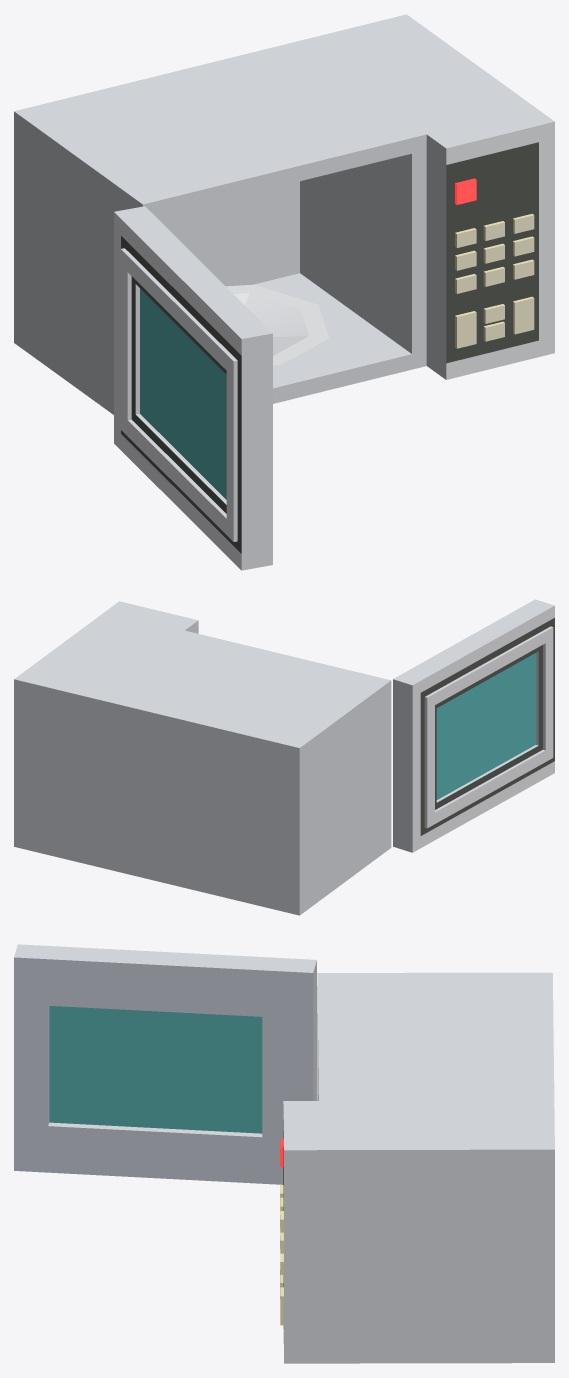
Rendered from Microwave_Open.glb.
3 renders of one model, top to bottom at view 1: azimuth 30°, elevation 25°; view 2: azimuth 150°, elevation 25°; view 3: azimuth 270°, elevation 25°, orthographic. The views are drawn at different scales.
Parts seen in each view (by area): view 1: Microwave_Open; view 2: Microwave_Open; view 3: Microwave_Open.
Part boxes in pixels (x1,y1,x2,y2): Microwave_Open: [14, 14, 554, 570]; Microwave_Open: [14, 599, 554, 915]; Microwave_Open: [14, 944, 554, 1363].
Size of what is drawn, in the model's own units: 0.9383 by 0.4508 by 1.04.
Materials: 1 (1 with a texture image).
